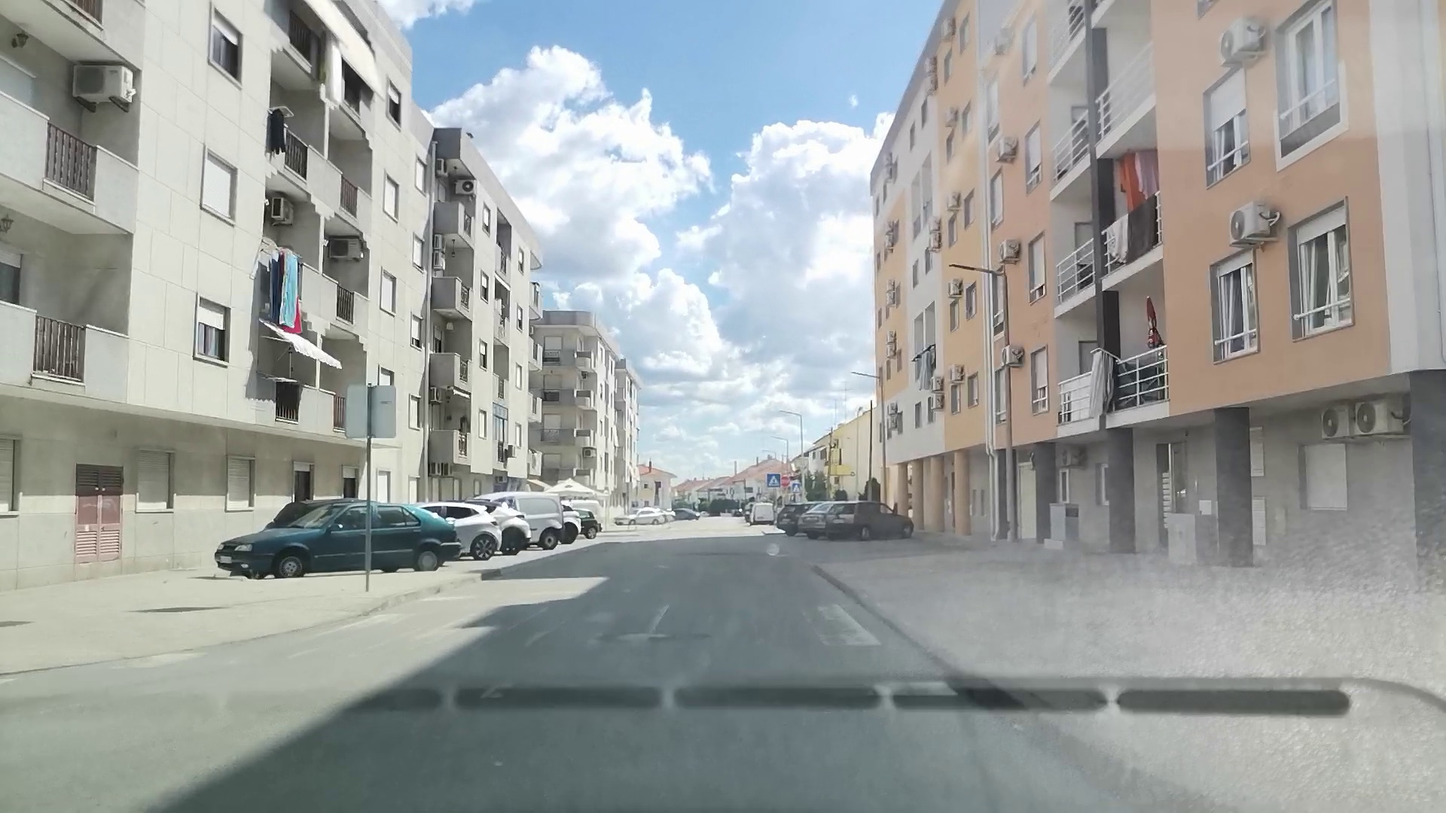Stairs: (123, 600, 875, 671)
